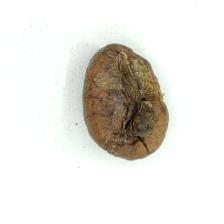NG: (97, 49, 167, 152)
